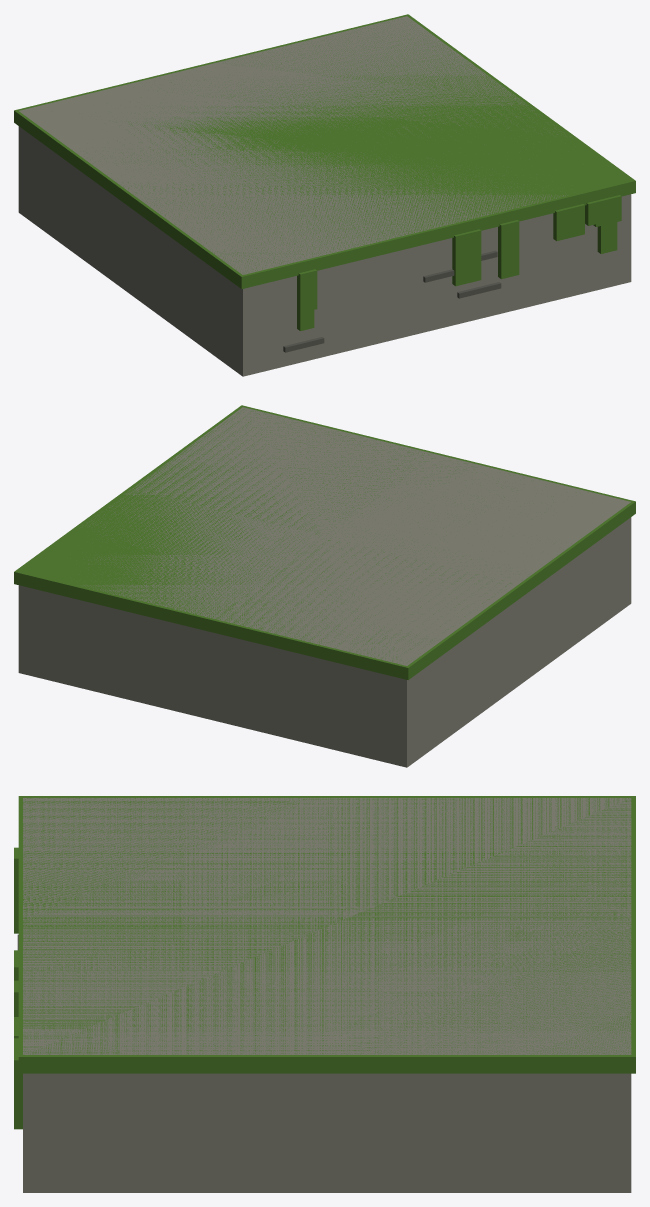
Rendered from platform_large.glb.
3 renders of one model, top to bottom at view 1: azimuth 30°, elevation 25°; view 2: azimuth 150°, elevation 25°; view 3: azimuth 270°, elevation 25°, orthographic. The views are drawn at different scales.
Parts seen in each view (by area): view 1: stone-col, moss-col, stone_dark; view 2: stone-col, moss-col; view 3: stone-col, moss-col.
Boxes of the visible parts, bbox=[...] form: stone-col: bbox=[18, 16, 631, 376]; moss-col: bbox=[14, 14, 635, 330]; stone_dark: bbox=[283, 250, 501, 352]; stone-col: bbox=[18, 407, 631, 767]; moss-col: bbox=[14, 405, 635, 679]; stone-col: bbox=[23, 798, 631, 1192]; moss-col: bbox=[14, 796, 635, 1129].
Size of the model in its own units: 4.06 by 1 by 4.09.
